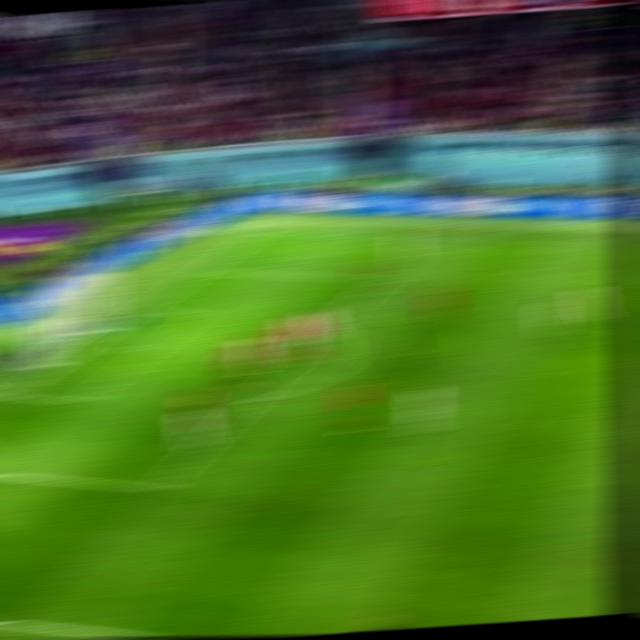bigarea_bottom_inner: (139, 473, 175, 501)
bigarea_top_inner: (366, 269, 398, 288)
bigarea_top_outter: (187, 260, 219, 278)
bottom_arc_area_intersection: (234, 389, 269, 410)
corner: (248, 224, 281, 238)
smallarea_bottom_inner: (64, 387, 100, 412)
smallarea_bottom_outter: (0, 385, 26, 403)
smallarea_top_inner: (186, 303, 218, 322)
smallarea_top_outter: (126, 301, 158, 319)
top_arc_area_intersection: (314, 317, 343, 335)
